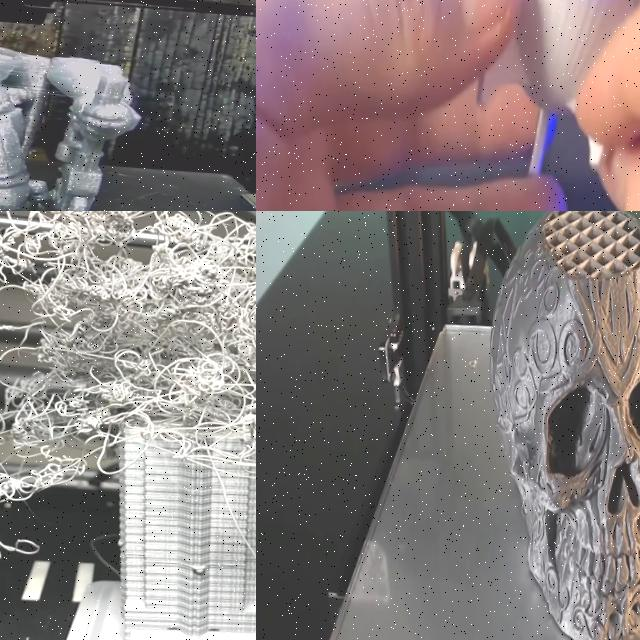spaghetti: (0, 211, 256, 550)
